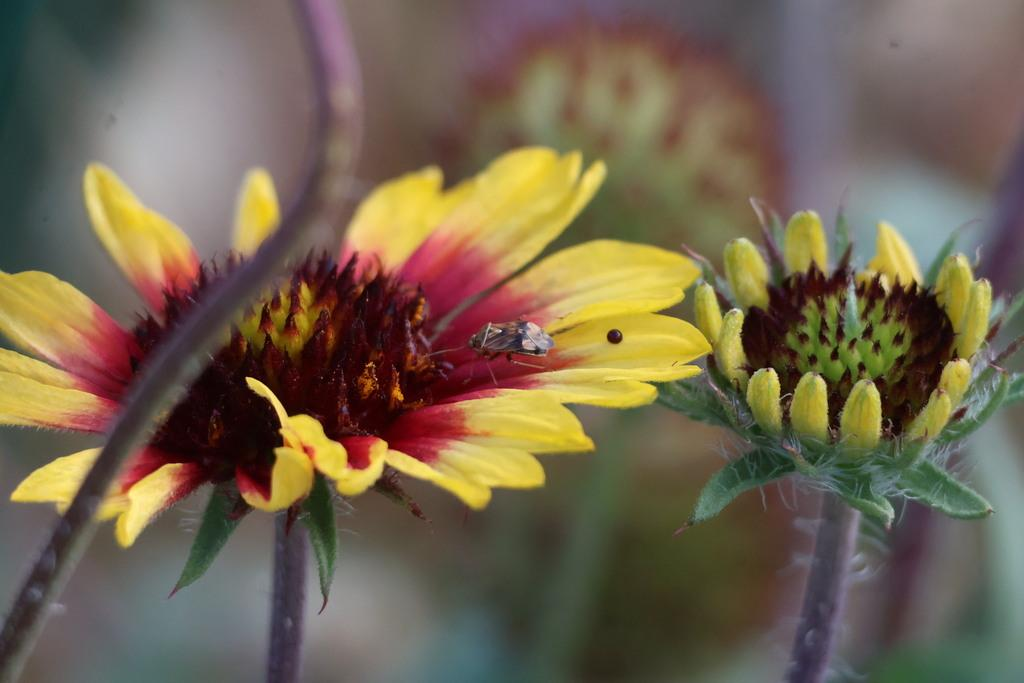plant_bugs: (449, 293, 567, 393)
